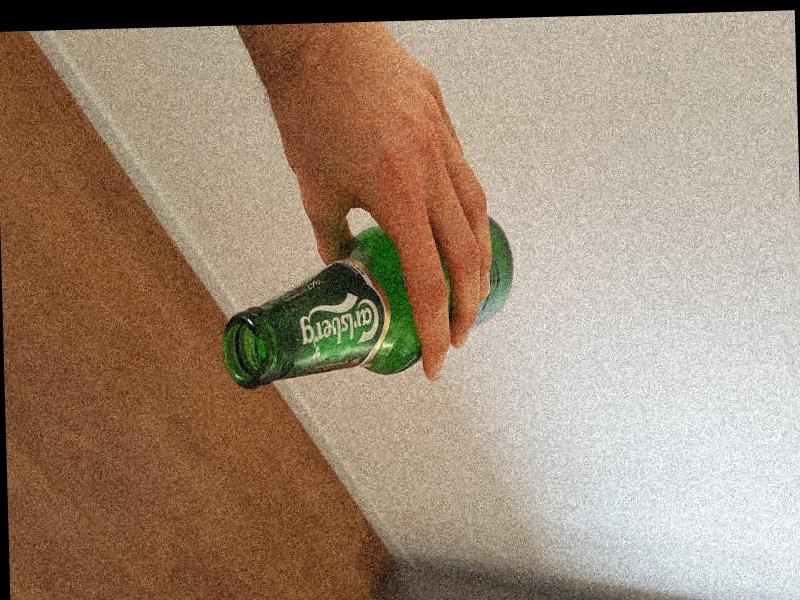Beer: (218, 222, 515, 388)
